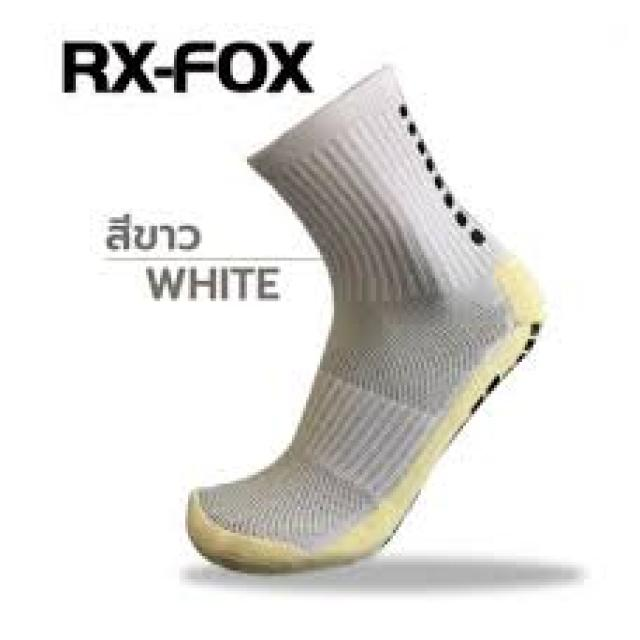sock: (182, 61, 544, 573)
